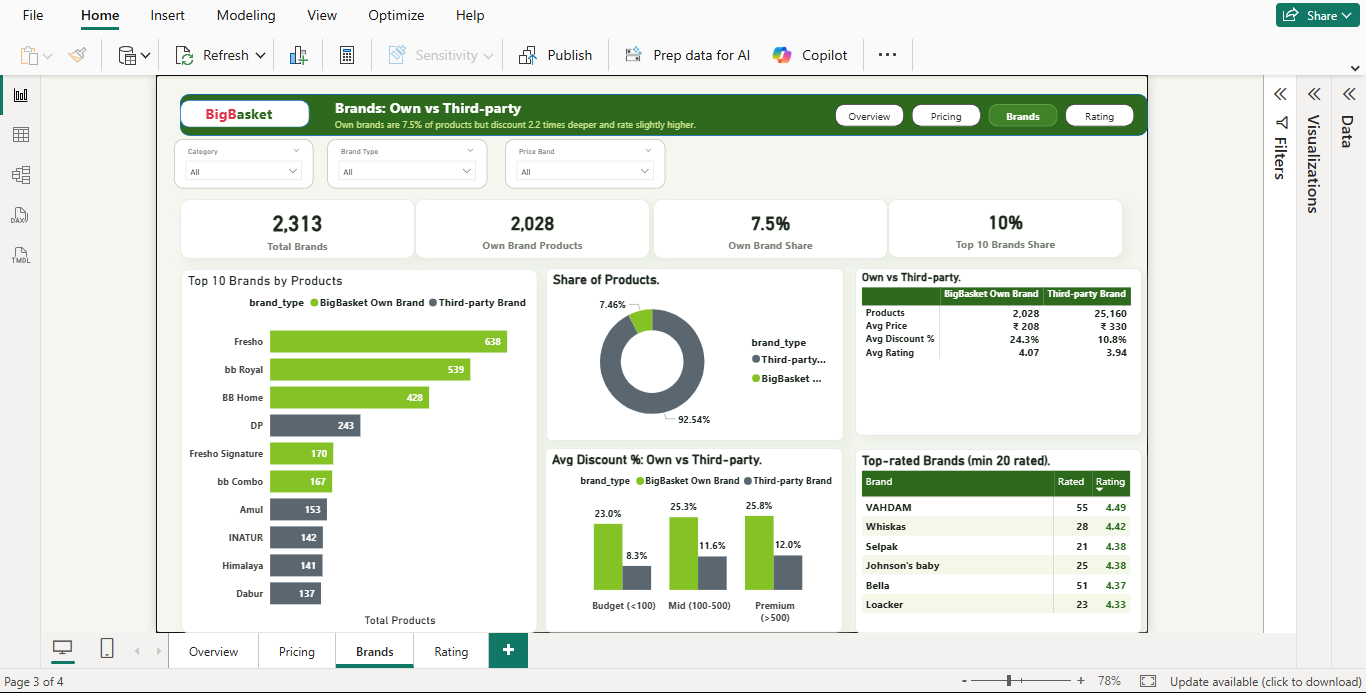

Layout of this report page (visuals, bound fields, positions):
{"tool":"powerbi","page":{"name":"Brands","canvas":[1280,720],"ordinal":2},"visuals":[{"type":"shape","box":[31.2,24.1,1248.7,53.9],"z":0},{"type":"shape","box":[31.2,32.6,167.2,35.4],"z":1000},{"type":"textbox","box":[22.7,32.6,167.2,35.4],"z":2000},{"type":"textbox","box":[225.4,24.1,674.6,58.1],"z":3000},{"type":"slicer","fields":{"Values":["products.category"]},"box":[22.7,82.2,180,63.8],"z":4000},{"type":"slicer","fields":{"Values":["products.category"]},"box":[450.7,82.2,206.9,63.8],"z":5000},{"type":"slicer","title":"Brand Type","fields":{"Values":["products.brand_type"]},"box":[221.1,82.2,206.9,63.8],"z":6000},{"type":"pageNavigator","box":[876.1,37.4,388.4,29.7],"z":7000},{"type":"card","fields":{"Values":["products.Total Brands"]},"box":[31.5,160.2,303.2,77.2],"z":8000},{"type":"card","fields":{"Values":["products.Own Brand Products"]},"box":[334.7,160.2,303.2,77.2],"z":9000},{"type":"card","fields":{"Values":["products.Own Brand Share"]},"box":[640.7,160.2,303.2,77.2],"z":10000},{"type":"card","fields":{"Values":["products.Top 10 Brands Share"]},"box":[943.9,160.2,303.2,75.8],"z":11000},{"type":"barChart","title":"Top 10 Brands by Products","fields":{"Category":["products.brand"],"Y":["products.Total Products"],"Series":["products.brand_type"]},"box":[31.7,250,459.5,470],"z":12000},{"type":"donutChart","title":"Share of Products.","fields":{"Y":["products.Total Products"],"Category":["products.brand_type"]},"box":[503.1,249.4,384.1,222.5],"z":13000},{"type":"clusteredColumnChart","title":"Avg Discount %: Own vs Third-party.","fields":{"Y":["products.Avg Discount %"],"Category":["products.price_band"],"Series":["products.brand_type"]},"box":[501.7,481.9,384.1,238.1],"z":14000},{"type":"pivotTable","title":"Own vs Third-party.","fields":{"Columns":["products.brand_type"],"Values":["products.Total Products","products.Avg Sale Price","products.Avg Discount %","products.Avg Rating"]},"box":[901.5,249.1,370.2,216],"z":15000},{"type":"pivotTable","title":"Top-rated Brands (min 20 rated).","fields":{"Rows":["products.brand"],"Values":["products.Rated Products","products.Avg Rating (min 20 rated)"]},"box":[902,482,370,238],"z":16000}]}

Visuals, with their boxes on the page's 1280x720 design canvas (x1, y1, x2, y2). These are canvas units, not pixel positions in the 1366x693 screenshot, which may show the page scaled, cropped or inside an application window:
shape: detection(31, 24, 1280, 78)
shape: detection(31, 33, 198, 68)
textbox: detection(23, 33, 190, 68)
textbox: detection(225, 24, 900, 82)
slicer - products.category: detection(23, 82, 203, 146)
slicer - products.category: detection(451, 82, 658, 146)
"Brand Type" slicer: detection(221, 82, 428, 146)
pageNavigator: detection(876, 37, 1264, 67)
card - products.Total Brands: detection(32, 160, 335, 237)
card - products.Own Brand Products: detection(335, 160, 638, 237)
card - products.Own Brand Share: detection(641, 160, 944, 237)
card - products.Top 10 Brands Share: detection(944, 160, 1247, 236)
"Top 10 Brands by Products" barChart: detection(32, 250, 491, 720)
"Share of Products." donutChart: detection(503, 249, 887, 472)
"Avg Discount %: Own vs Third-party." clusteredColumnChart: detection(502, 482, 886, 720)
"Own vs Third-party." pivotTable: detection(902, 249, 1272, 465)
"Top-rated Brands (min 20 rated)." pivotTable: detection(902, 482, 1272, 720)
